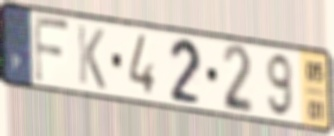2: (167, 34, 205, 109), (220, 42, 255, 117)
4: (128, 33, 158, 98)
9: (264, 51, 295, 120)
F: (32, 12, 72, 87)
K: (75, 22, 107, 93)
